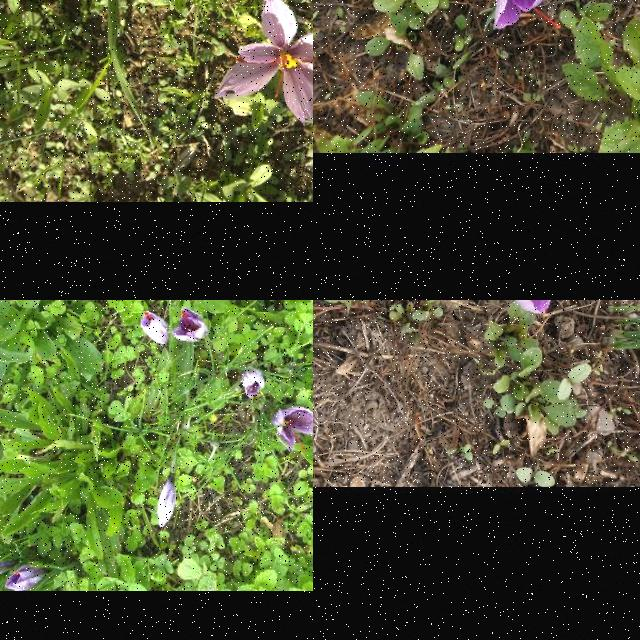flower: (214, 0, 313, 123), (446, 0, 561, 31), (274, 407, 313, 452), (174, 308, 208, 344), (5, 565, 49, 591), (157, 476, 177, 530), (142, 310, 170, 348), (243, 368, 265, 398)
